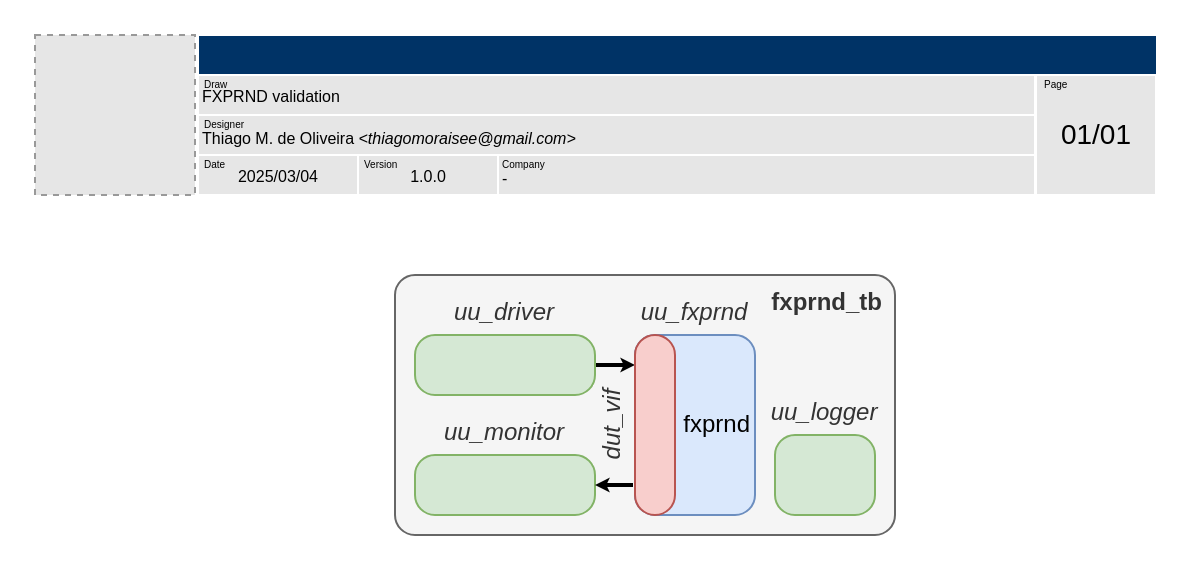
This 1192x570 diagram has some shape labels left out. Grey dashed boxes stand in for pictures. The shapes that lost their labels are listed below. From the top down, each one's centre as x and y in pixels, then its label:
the point at 676,54: SandBlocks
the point at 504,364: fxprnd_driver
the point at 654,424: fxprnd_interface
the point at 504,484: fxprnd_monitor
the point at 824,474: Logger
